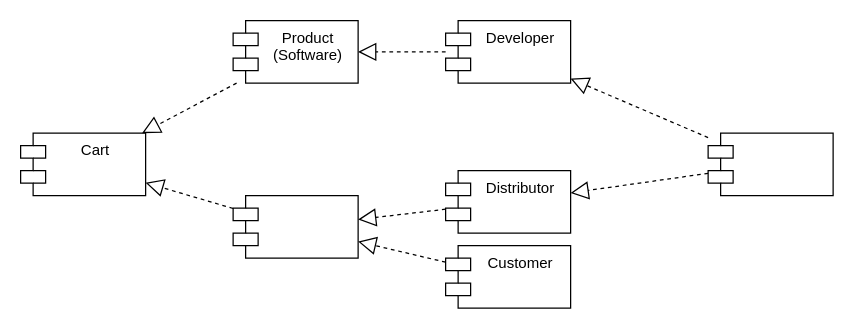
The diagram is 854 pixels wide and 329 high, and some of its shapes have lost their labels. Each missing label, with the centre of its shape:
"Organization" goes at [770,164].
"Payment" goes at [295,226].
